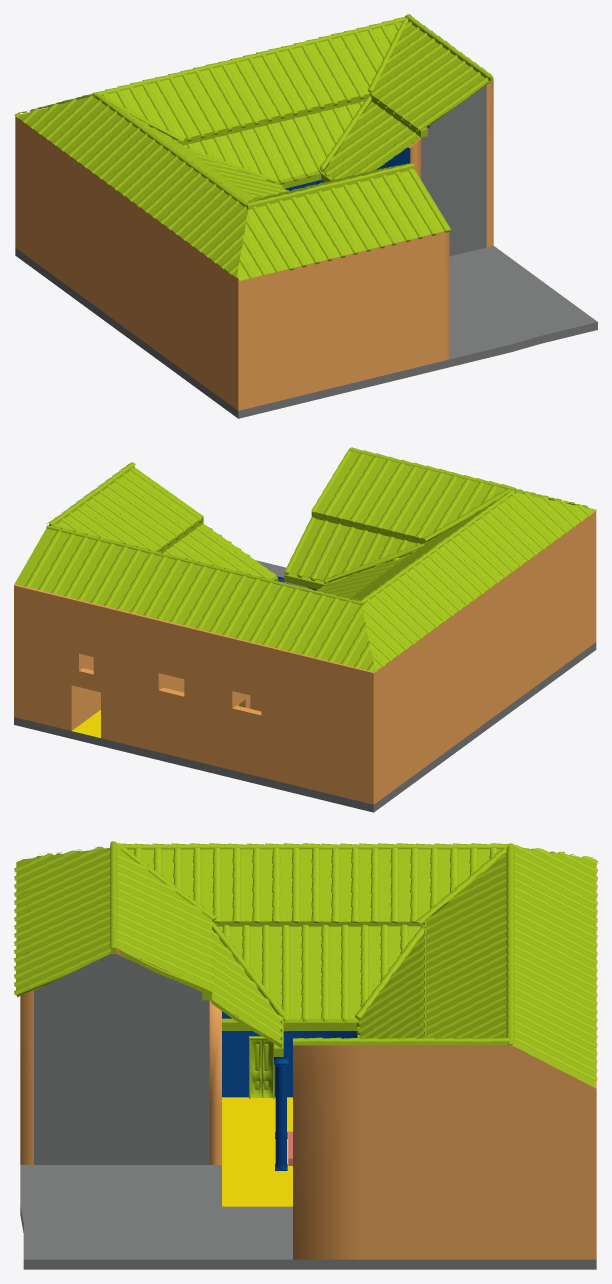
Rendered from AtrioEvidenc_test.glb.
3 renders of one model, top to bottom at view 1: azimuth 30°, elevation 25°; view 2: azimuth 150°, elevation 25°; view 3: azimuth 270°, elevation 25°, orthographic. The views are drawn at different scales.
Parts seen in each view (by area): view 1: TEJADO, Muro exterior, Plane.007, Plane.002, MADERA, mUROINTERIOR; view 2: Muro exterior, TEJADO, Plane.007, MADERA, Cube.028; view 3: TEJADO, Muro exterior, Plane.007, Plane.003, MADERA, mUROINTERIOR, Cube.063, COLUNA.008.
Boxes of the visible parts, x1,y1,x2,y2 form: TEJADO: (14, 14, 493, 280); Muro exterior: (15, 80, 493, 410); Plane.007: (15, 246, 597, 418); Plane.002: (421, 85, 486, 256); MADERA: (82, 19, 493, 270); mUROINTERIOR: (237, 138, 421, 278); Muro exterior: (14, 511, 596, 804); TEJADO: (14, 447, 596, 671); Plane.007: (14, 560, 596, 812); MADERA: (47, 465, 516, 629); Cube.028: (75, 654, 184, 727); TEJADO: (14, 841, 597, 1087); Muro exterior: (20, 864, 596, 1259); Plane.007: (20, 1097, 596, 1269); Plane.003: (34, 954, 209, 1164); MADERA: (17, 848, 529, 1056); mUROINTERIOR: (209, 1000, 356, 1164); Cube.063: (249, 1036, 274, 1098); COLUNA.008: (275, 1066, 286, 1165).
Size of what is drawn, in the model's own units: 23.61 by 11.14 by 25.39.
